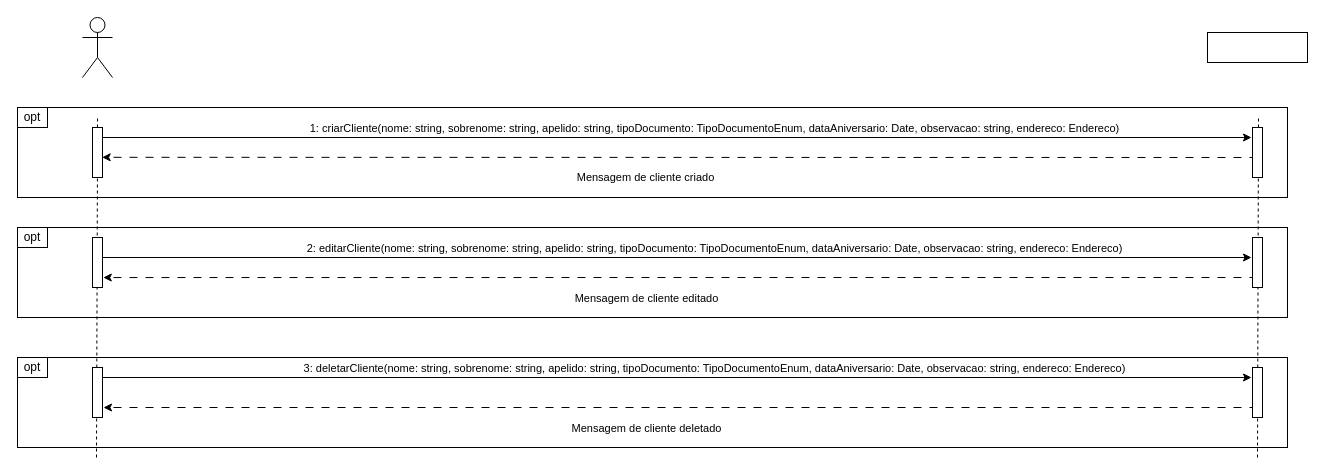
Some shapes in this 1325 by 476 pixel diagram are drawn without their labels. The centre of each missing label's shape, as x and y in pixels:
": Administrador" goes at (97,47).
"Sistema" goes at (1257,47).
